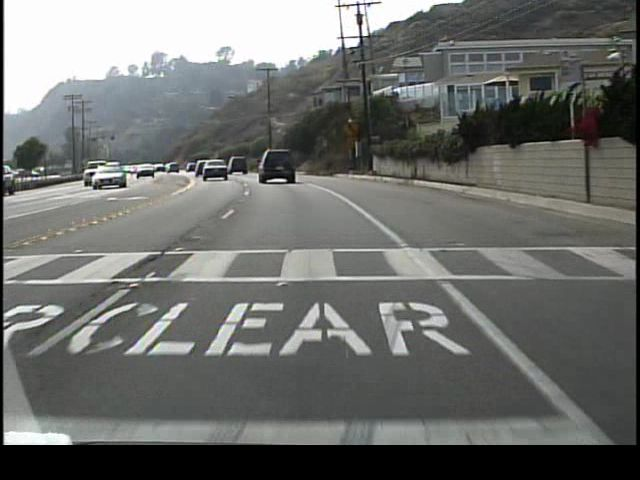car: (257, 147, 298, 183), (92, 164, 126, 189), (203, 159, 231, 182), (228, 153, 250, 174), (135, 163, 158, 180)
strada: (31, 207, 633, 479)
striscie pedonali: (4, 249, 636, 272)
